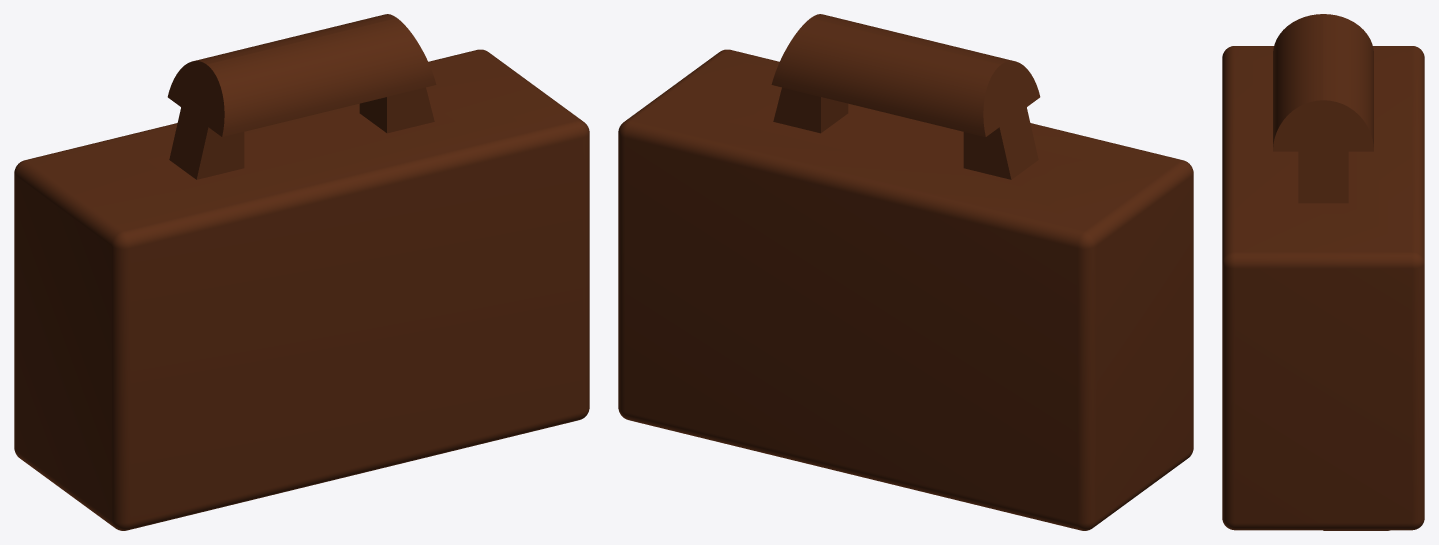
Rendered from briefcase.glb.
3 views of the same model, side by side, from view 1: azimuth 30°, elevation 25°; view 2: azimuth 150°, elevation 25°; view 3: azimuth 270°, elevation 25° (orthographic). The views are drawn at different scales.
Parts seen in each view (by area): view 1: 4449-f1.dat; view 2: 4449-f1.dat; view 3: 4449-f1.dat.
Boxes of the visible parts, box(x1,y1,x2,y2) form: 4449-f1.dat: box(14, 14, 589, 530); 4449-f1.dat: box(618, 14, 1193, 530); 4449-f1.dat: box(1222, 14, 1424, 530).
Size of the model in its own units: 0.398 by 0.328 by 0.158.
